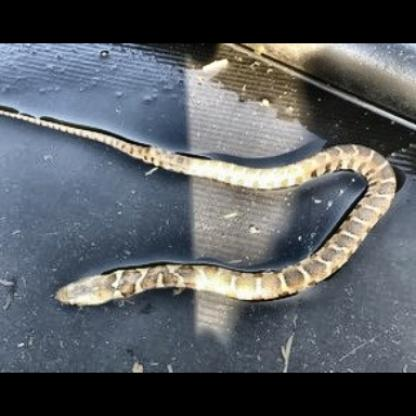Snake: (24, 130, 397, 309)
